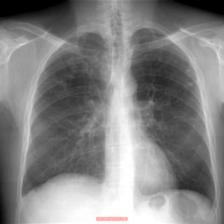tuberculosis: (16, 23, 218, 215)
